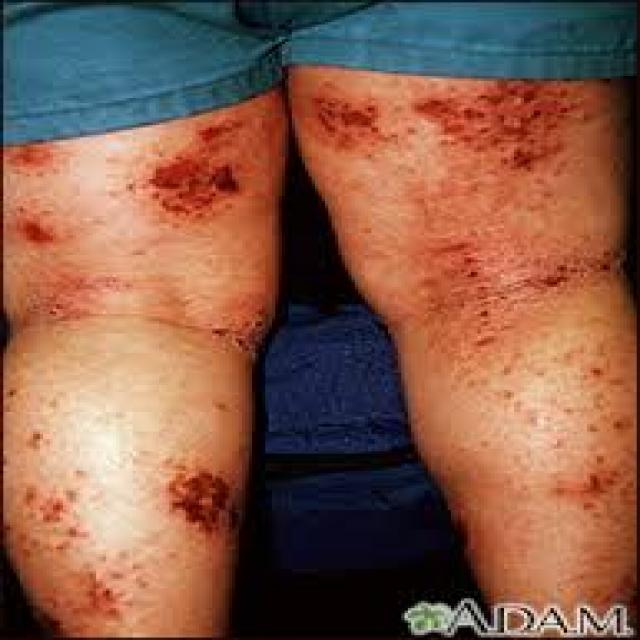Eczema: (319, 67, 640, 506), (0, 126, 259, 621)
